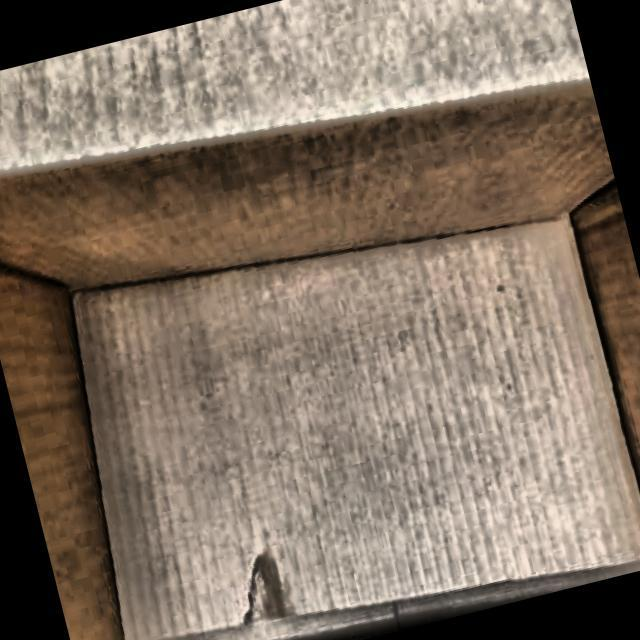cardboard: (32, 163, 640, 640)
